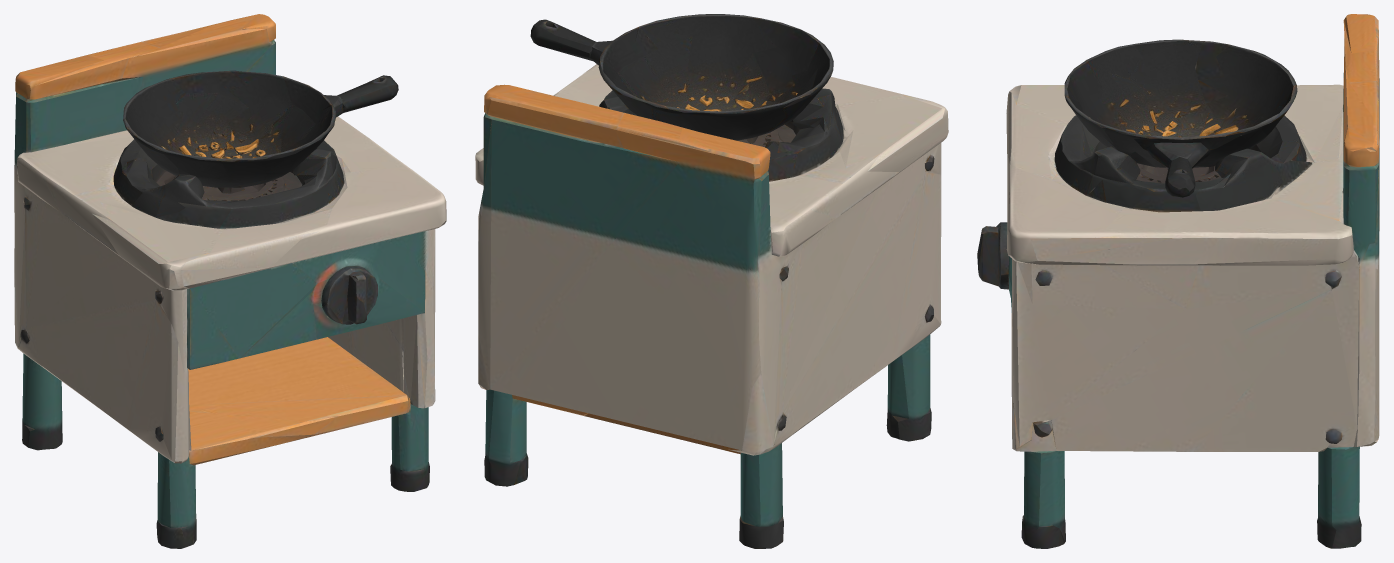
File: rounded-restaurant-wok-burner-used-wok.glb
The picture shows the model from 3 angles, left to right: view 1: azimuth 30°, elevation 25°; view 2: azimuth 150°, elevation 25°; view 3: azimuth 270°, elevation 25°; orthographic projection. The views are drawn at different scales.
Visible parts, largest first — view 1: Mesh_0; view 2: Mesh_0; view 3: Mesh_0.
Boxes of the visible parts, x1,y1,x2,y2 form: Mesh_0: [14, 14, 446, 548]; Mesh_0: [475, 14, 948, 548]; Mesh_0: [977, 14, 1379, 548].
Bounding box in the file's own units: 0.6754 × 0.765 × 0.7.
1 material, 1 textured.
